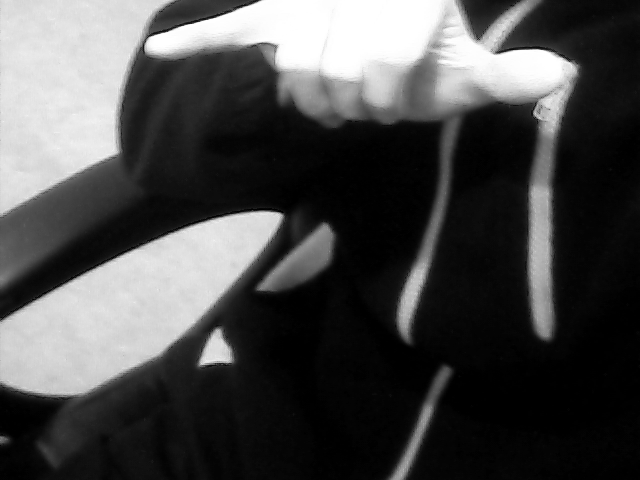aloha: (143, 1, 579, 129)
